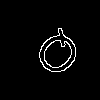Q: (24, 24, 87, 87)
